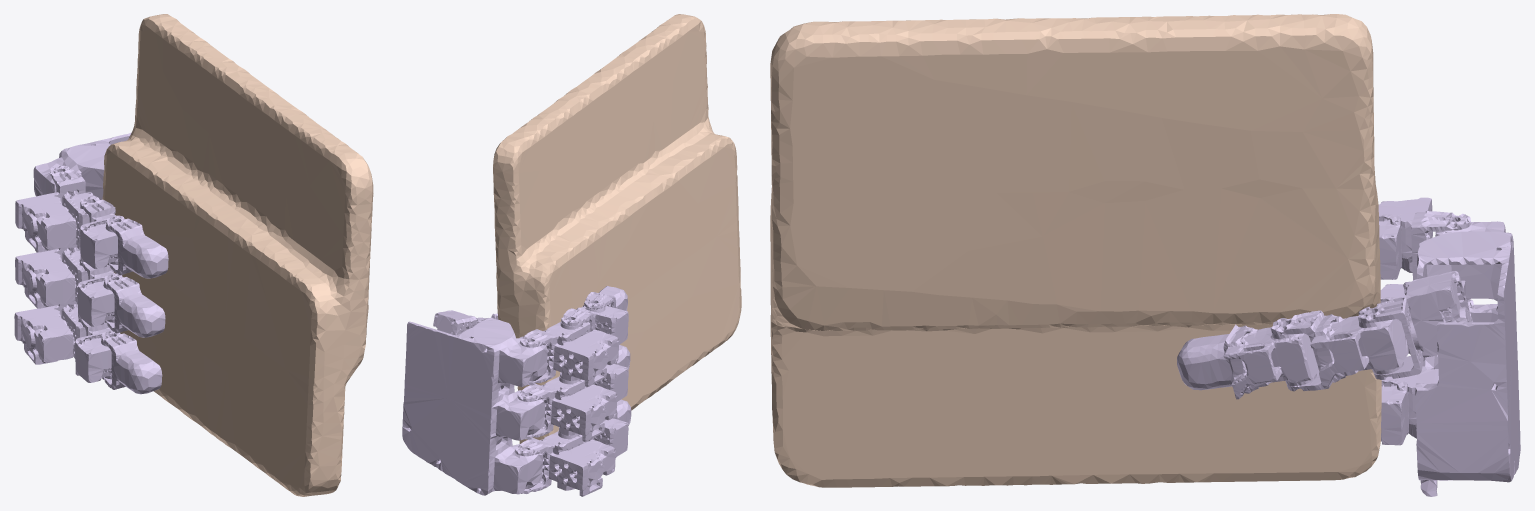
3 renders of one model, left to right at view 1: azimuth 30°, elevation 25°; view 2: azimuth 150°, elevation 25°; view 3: azimuth 270°, elevation 25°, orthographic. The views are drawn at different scales.
Visible parts, largest first — view 1: world, LEAP_hand; view 2: world, LEAP_hand; view 3: world, LEAP_hand.
Part boxes in pixels (x1,y1,x2,y2): world: [102, 14, 373, 496]; LEAP_hand: [14, 132, 168, 394]; world: [493, 14, 741, 443]; LEAP_hand: [402, 286, 631, 496]; world: [770, 14, 1381, 487]; LEAP_hand: [1177, 197, 1520, 496].
Size of the model in its own units: 0.143 by 0.2653 by 0.3748.
